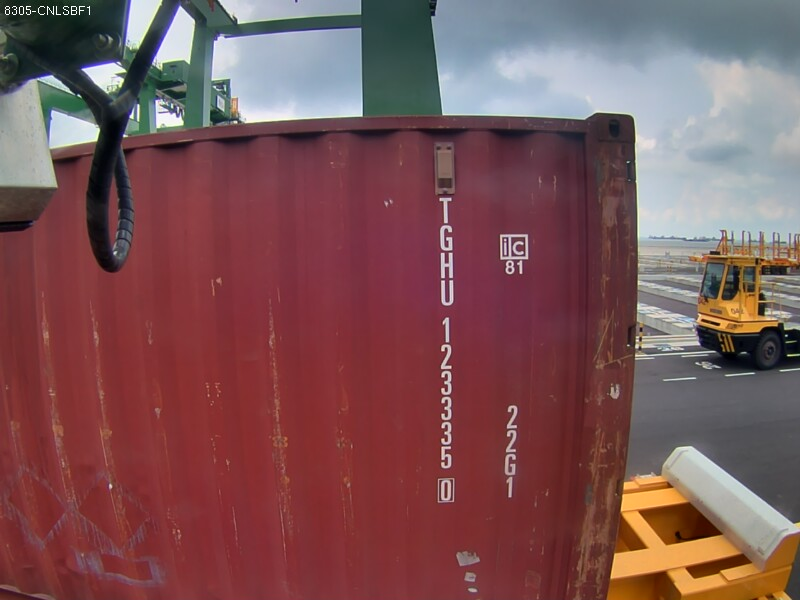container_no_door: (278, 104, 646, 599)
